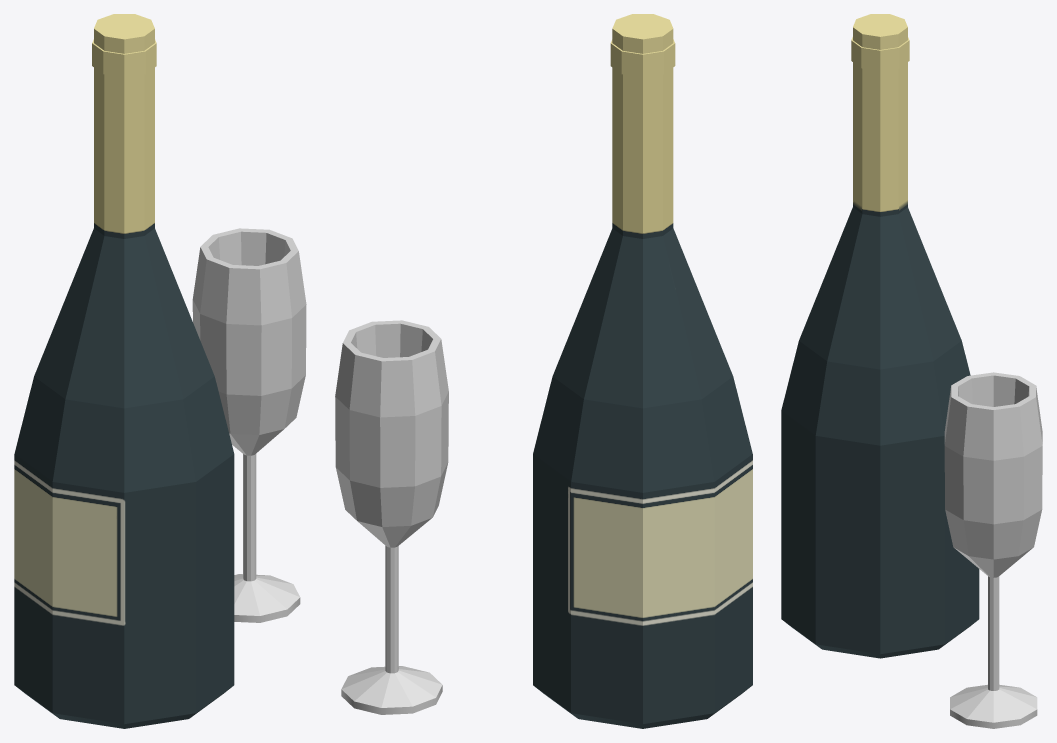
Rendered from Champagne Bottle + Cup.FBX.
3 renders of one model, left to right at view 1: azimuth 30°, elevation 25°; view 2: azimuth 150°, elevation 25°; view 3: azimuth 270°, elevation 25°, orthographic. The views are drawn at different scales.
Parts seen in each view (by area): view 1: Cylinder021, Cylinder022; view 2: Cylinder021, Cylinder022; view 3: Cylinder021, Cylinder022.
Boxes of the visible parts, box(x1,y1,x2,y2) form: Cylinder021: box(14, 14, 234, 728); Cylinder022: box(192, 228, 306, 622); Cylinder021: box(533, 14, 752, 728); Cylinder022: box(335, 320, 448, 714); Cylinder021: box(781, 14, 979, 658); Cylinder022: box(944, 372, 1042, 728).
Bounding box in the file's own units: 72.08 × 140 × 55.12.
